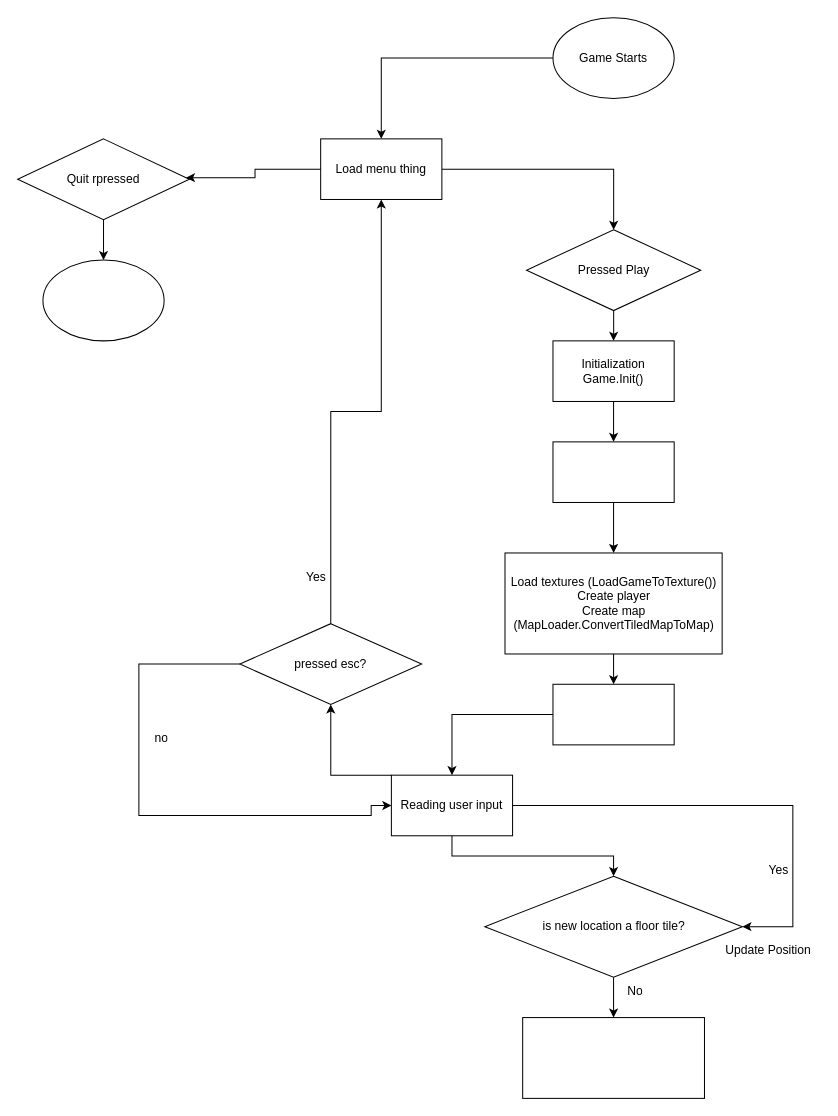
This 838x1116 diagram has some shape labels left out. Here are the shapes that lost their labels. From the top down, the centre of each, then its label:
At (x=103, y=300): "Program end".
At (x=613, y=471): "Scale game to resolution".
At (x=613, y=714): "Player move".
At (x=613, y=1057): "Map.Draw() DrawMapTiles() Draw items and enemies".
